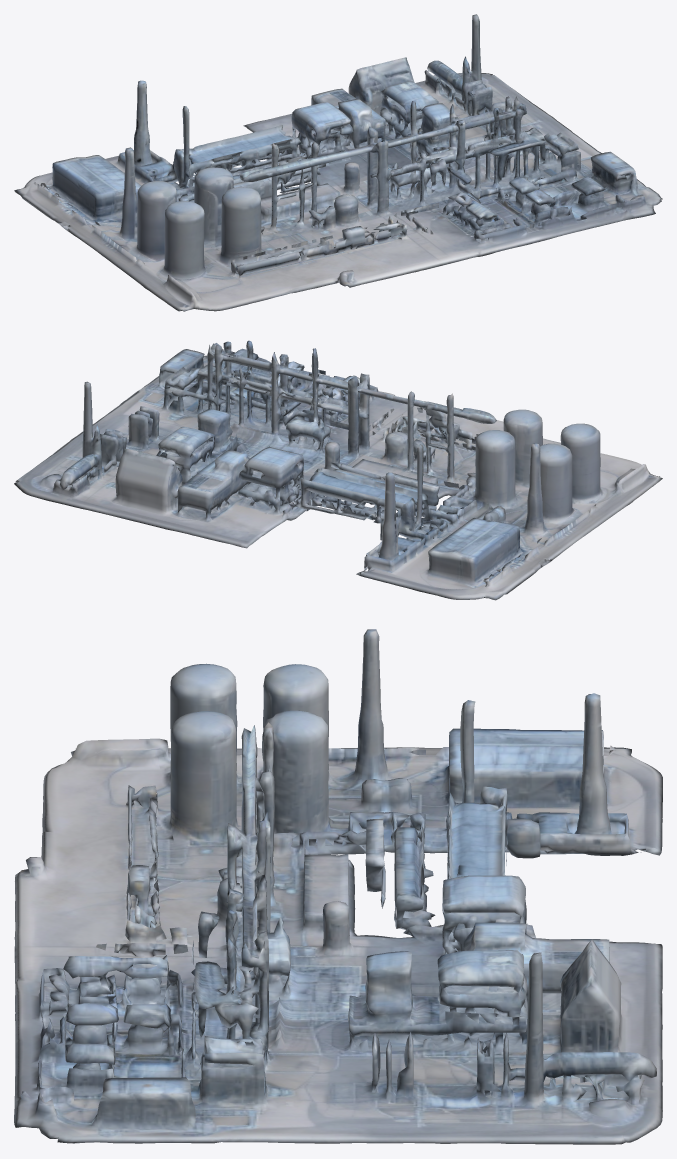
The picture shows the model from 3 angles, top to bottom: view 1: azimuth 30°, elevation 25°; view 2: azimuth 150°, elevation 25°; view 3: azimuth 270°, elevation 25°; orthographic projection. The views are drawn at different scales.
Parts seen in each view (by area): view 1: Mesh_0; view 2: Mesh_0; view 3: Mesh_0.
Part boxes in pixels (left/top/right/bottom): Mesh_0: left=14, top=14, right=662, bottom=311; Mesh_0: left=14, top=340, right=662, bottom=600; Mesh_0: left=14, top=629, right=662, bottom=1144.
Bounding box in the file's own units: 2 × 0.3984 × 1.39.
1 material, 1 textured.
